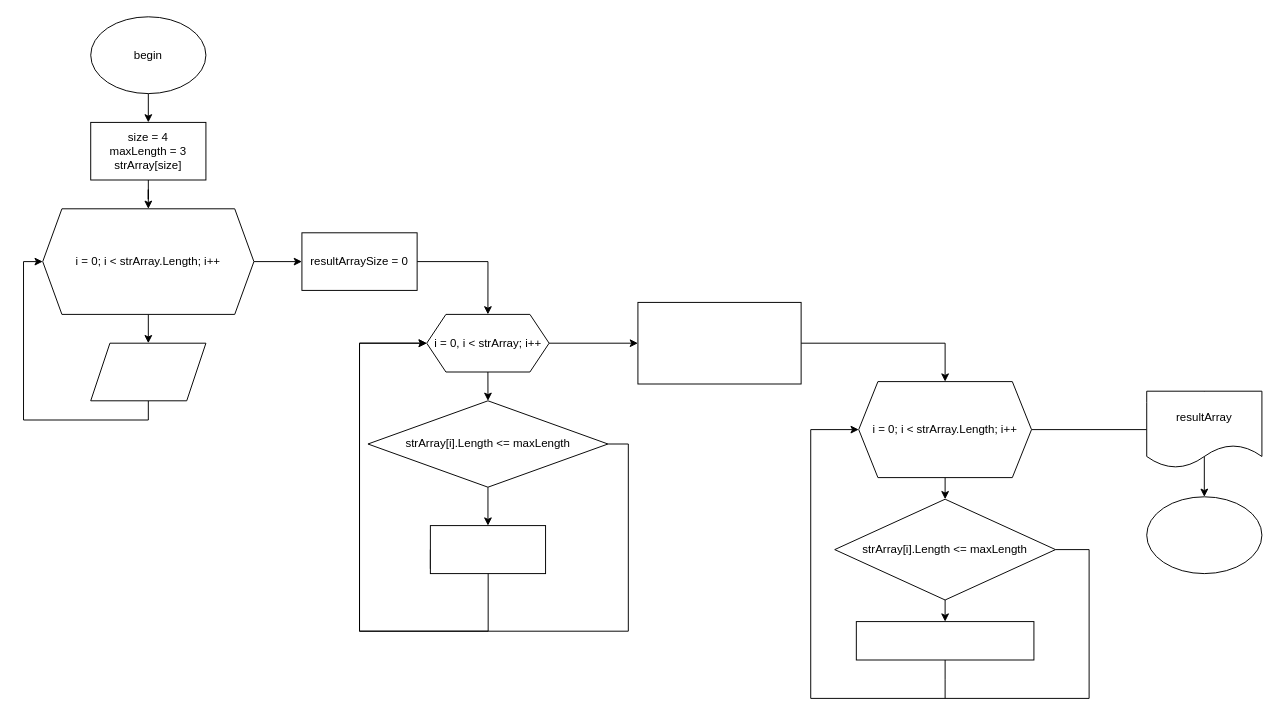
Some shapes in this 1279 by 723 pixel diagram are drawn without their labels. The box of each missing label's shape, as (x1, y1, x2, y2) in pixels:
End: (1146, 496, 1262, 574)
resultArray[index] = strArray[i] index++: (855, 621, 1034, 660)
resultArray[resultArraySize] index = 0: (637, 301, 801, 384)
resultArraySize += 1: (429, 525, 546, 574)
strArray[i]: (90, 342, 206, 401)
